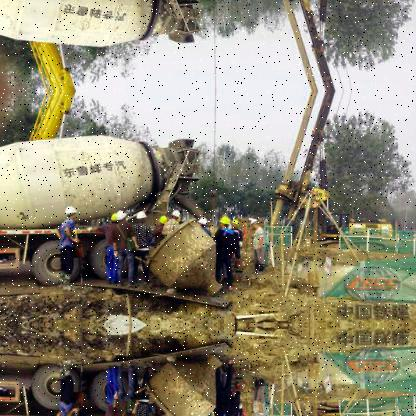Helmet: (60, 199, 78, 220), (249, 215, 264, 232), (226, 218, 245, 231), (134, 206, 148, 222), (170, 207, 184, 223), (158, 210, 168, 229), (112, 209, 126, 222), (222, 212, 233, 228), (118, 206, 127, 225), (196, 217, 208, 229)
